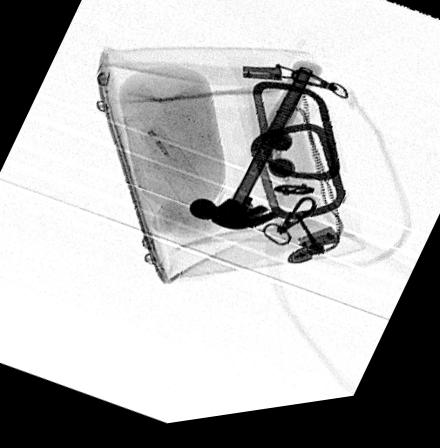Hammer: (187, 69, 323, 238)
